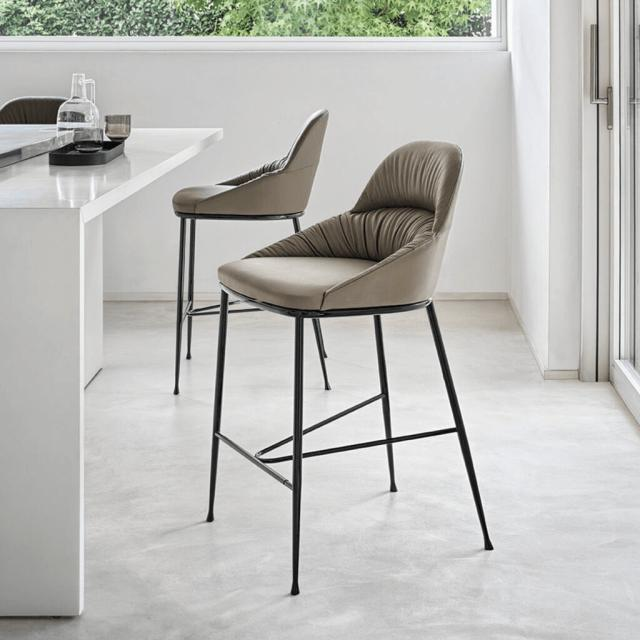chair: (205, 137, 500, 597), (172, 105, 334, 395), (237, 142, 475, 318), (166, 90, 340, 222)
